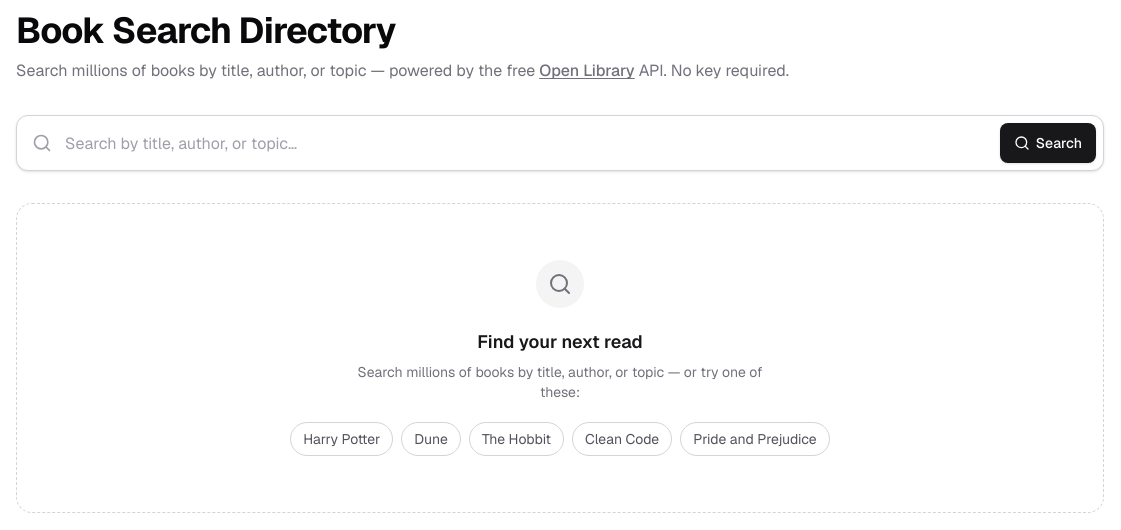
SearchDirectory › maps action serverError results to the error state
In the search field: (560, 143) 16,115 -> 1104,171, type "dune"
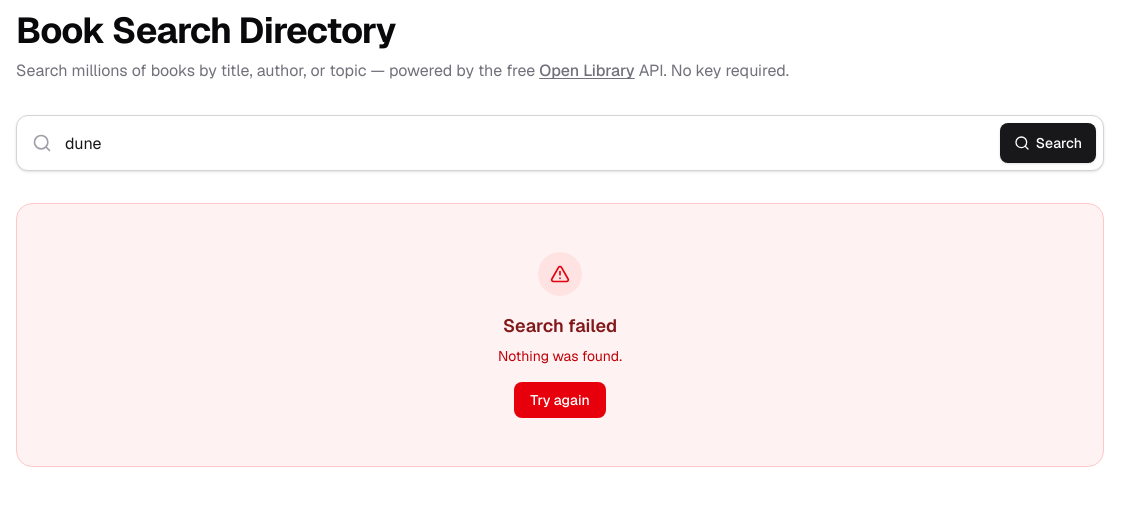
expect the text "Nothing was found." is shown: met, box 498,346 -> 622,366
